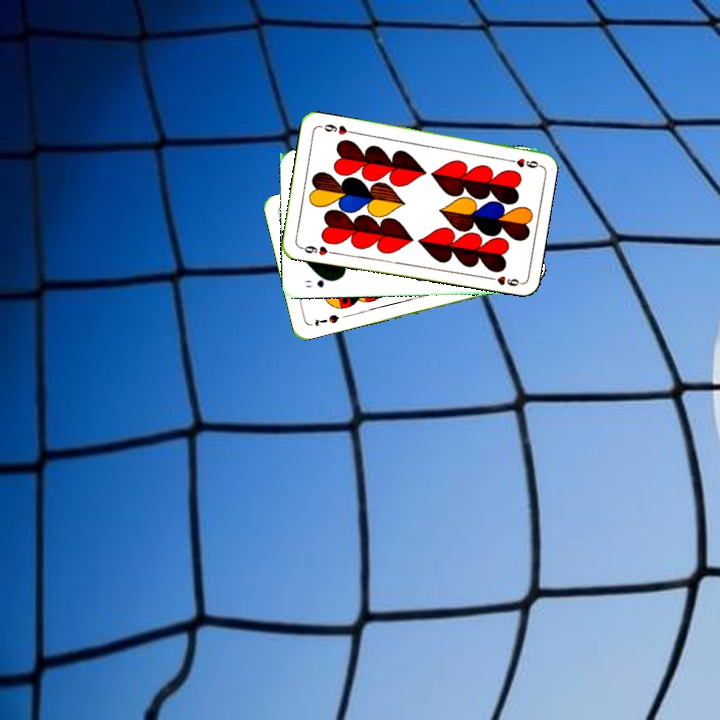GO: (301, 273, 337, 290)
H9: (296, 241, 336, 258), (501, 154, 541, 170)
S7: (310, 310, 342, 329)
